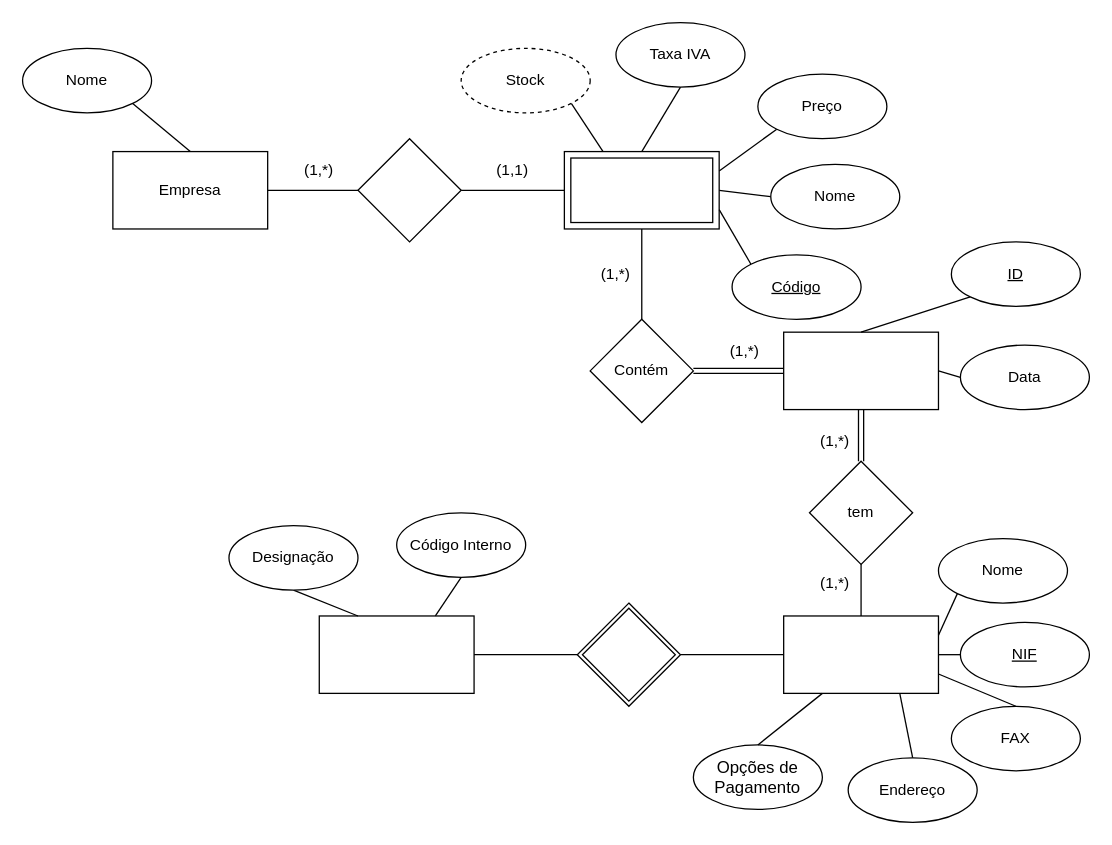
This 1112x845 diagram has some shape labels left out. Each missing label, with the centre of its shape:
"Comercializa" goes at point (409, 189).
"Encomenda" goes at point (860, 370).
"Fornecedor" goes at point (860, 654).
"Produto" goes at point (641, 189).
"Tipo de Fornecedor" goes at point (396, 654).
